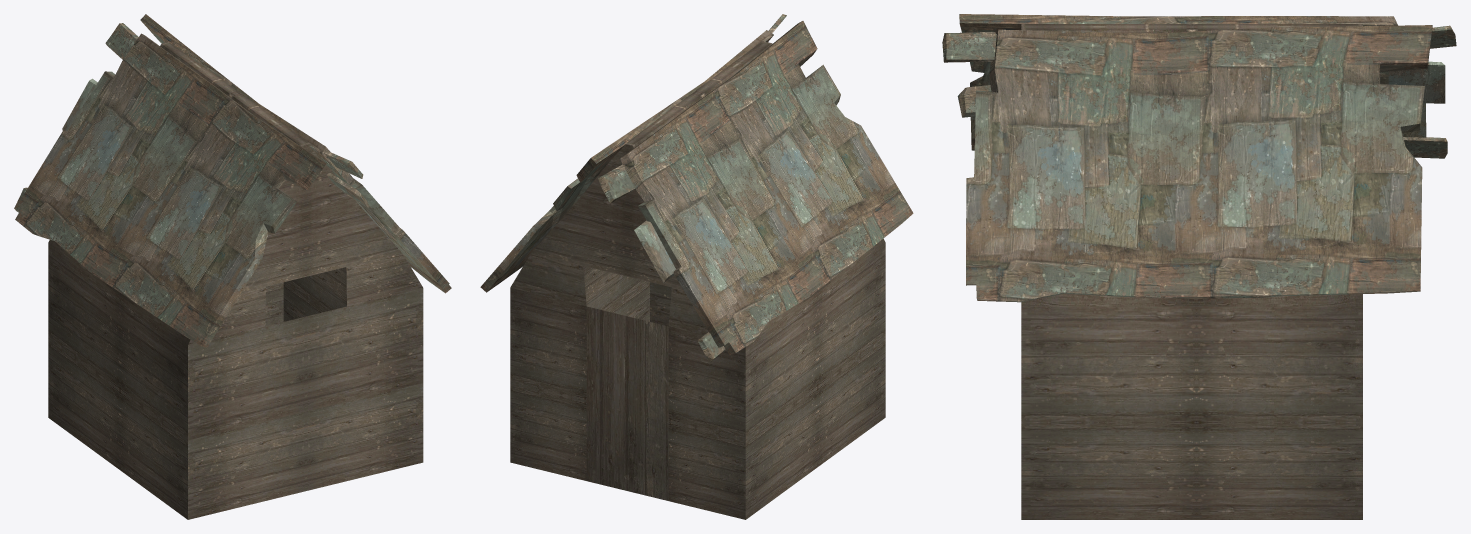
Rendered from bg_eud_sahill_warehouse01b_sm_ysi.FBX.
The picture shows the model from 3 angles, left to right: view 1: azimuth 30°, elevation 25°; view 2: azimuth 150°, elevation 25°; view 3: azimuth 270°, elevation 25°; orthographic projection. The views are drawn at different scales.
Visible parts, largest first — view 1: bg_eud_sahill_warehouse01b_sm_ysi; view 2: bg_eud_sahill_warehouse01b_sm_ysi; view 3: bg_eud_sahill_warehouse01b_sm_ysi.
Boxes of the visible parts, left/top/right/bottom form: bg_eud_sahill_warehouse01b_sm_ysi: left=14, top=14, right=451, bottom=519; bg_eud_sahill_warehouse01b_sm_ysi: left=480, top=14, right=913, bottom=519; bg_eud_sahill_warehouse01b_sm_ysi: left=942, top=14, right=1456, bottom=519.
Bounding box in the file's own units: 411 × 534 × 579.
